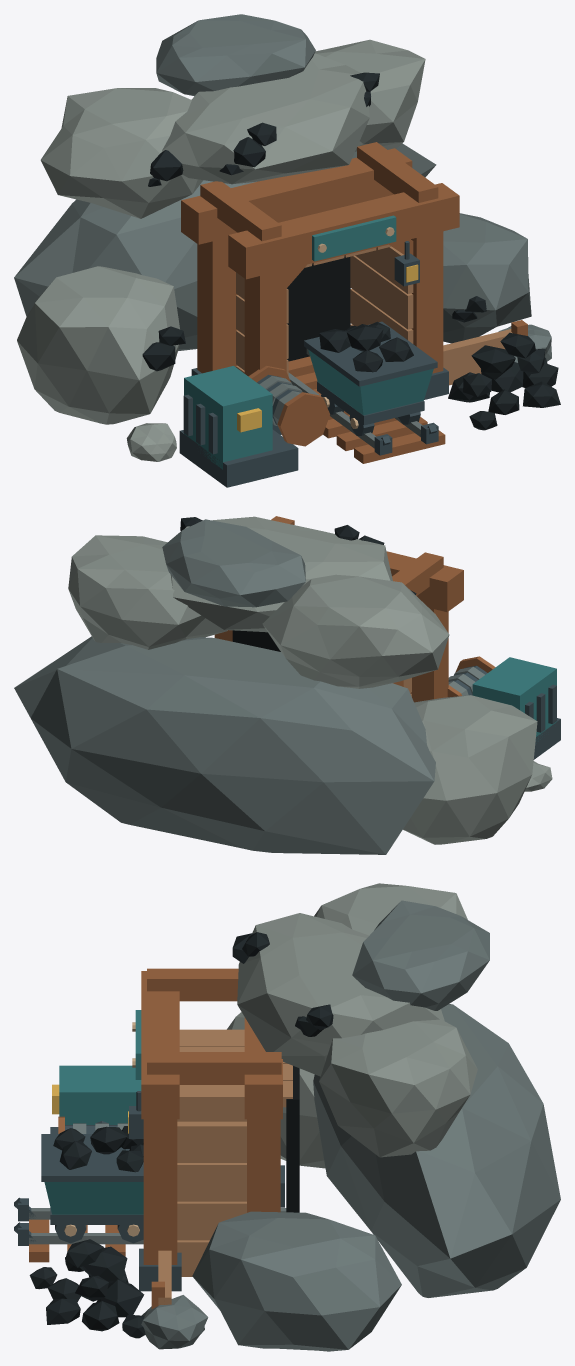
Rendered from coal_mine.glb.
The picture shows the model from 3 angles, top to bottom: view 1: azimuth 30°, elevation 25°; view 2: azimuth 150°, elevation 25°; view 3: azimuth 270°, elevation 25°; orthographic projection. The views are drawn at different scales.
Visible parts, largest first — view 1: Coal mine Stone, Coal mine Timber, Coal mine Dark stone, Coal mine Coal ore, Coal mine Teal, Coal mine Iron, Coal mine Planks, Coal mine Tunnel dark, Coal mine Steel, Coal mine Amber; view 2: Coal mine Dark stone, Coal mine Stone, Coal mine Timber, Coal mine Teal, Coal mine Iron, Coal mine Tunnel dark, Coal mine Coal ore, Coal mine Steel; view 3: Coal mine Dark stone, Coal mine Stone, Coal mine Timber, Coal mine Planks, Coal mine Coal ore, Coal mine Teal, Coal mine Iron, Coal mine Tunnel dark, Coal mine Steel.
Boxes of the visible parts, <box> form: Coal mine Stone: <box>17,39,425,461</box>; Coal mine Timber: <box>181,142,527,463</box>; Coal mine Dark stone: <box>14,14,551,362</box>; Coal mine Coal ore: <box>142,72,560,430</box>; Coal mine Teal: <box>184,215,433,469</box>; Coal mine Iron: <box>179,241,448,487</box>; Coal mine Planks: <box>236,244,512,385</box>; Coal mine Tunnel dark: <box>287,257,350,361</box>; Coal mine Steel: <box>259,348,422,448</box>; Coal mine Amber: <box>237,264,418,432</box>; Coal mine Dark stone: <box>14,519,435,854</box>; Coal mine Stone: <box>68,516,552,844</box>; Coal mine Timber: <box>214,516,495,702</box>; Coal mine Teal: <box>472,657,556,743</box>; Coal mine Iron: <box>448,665,560,759</box>; Coal mine Tunnel dark: <box>232,630,280,651</box>; Coal mine Coal ore: <box>180,517,416,594</box>; Coal mine Steel: <box>448,666,484,695</box>; Coal mine Dark stone: <box>141,900,560,1351</box>; Coal mine Stone: <box>227,883,477,1168</box>; Coal mine Timber: <box>29,968,282,1308</box>; Coal mine Planks: <box>158,1029,292,1305</box>; Coal mine Coal ore: <box>29,932,333,1338</box>; Coal mine Teal: <box>44,1010,143,1214</box>; Coal mine Iron: <box>14,1091,284,1291</box>; Coal mine Tunnel dark: <box>286,1066,299,1212</box>; Coal mine Steel: <box>29,1123,286,1244</box>.
Bounding box in the file's own units: 2.74 × 1.53 × 2.44.
